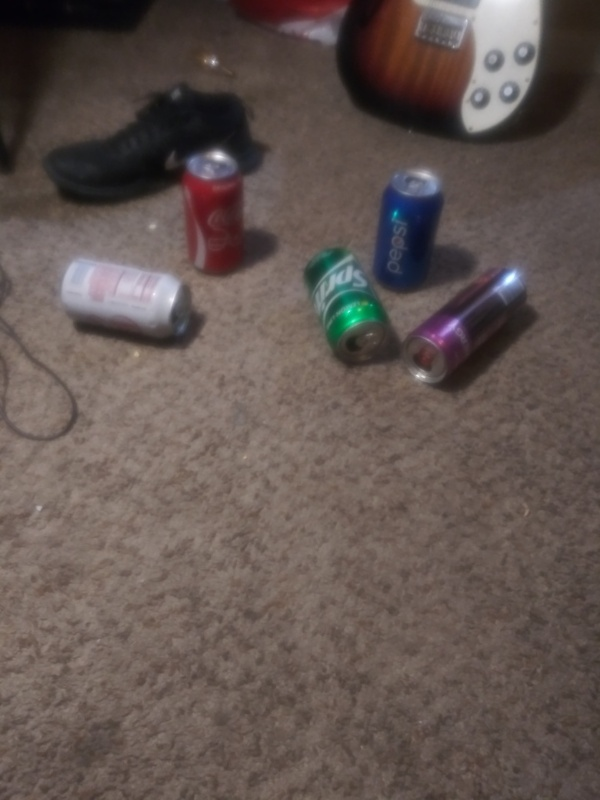can: (400, 263, 530, 386), (53, 254, 196, 348), (298, 246, 395, 368), (176, 144, 251, 276), (371, 167, 447, 290)
